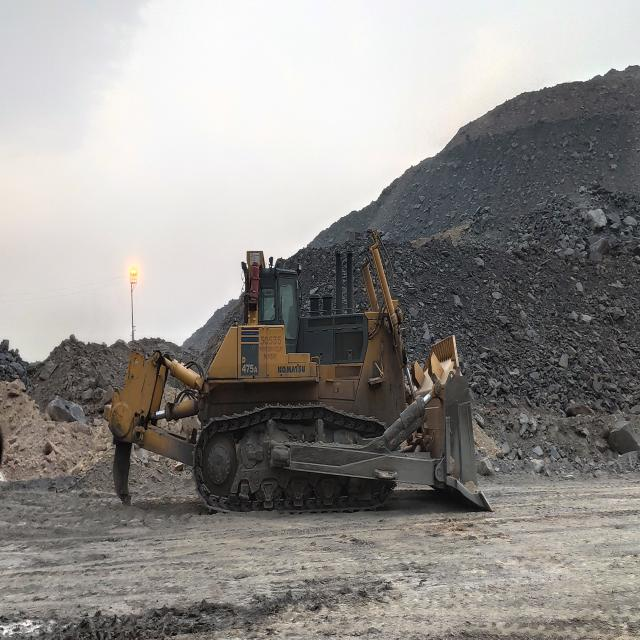buldozerpayloadergrader: (105, 233, 490, 513)
